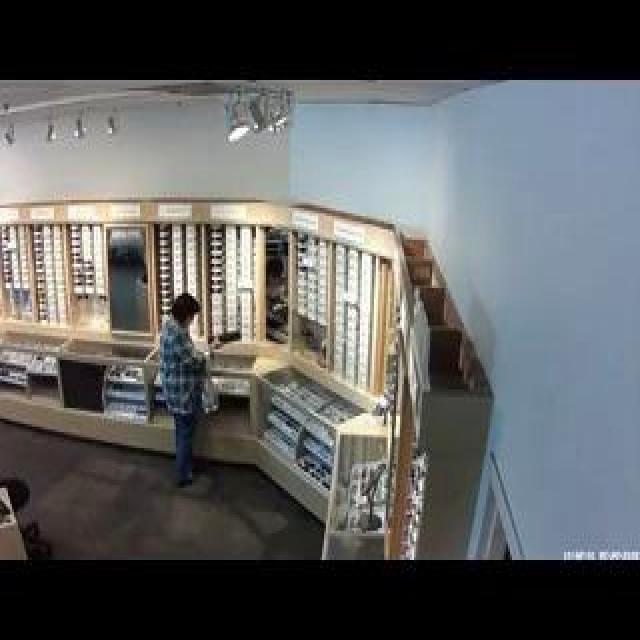Shoplifting: (130, 259, 245, 499)
